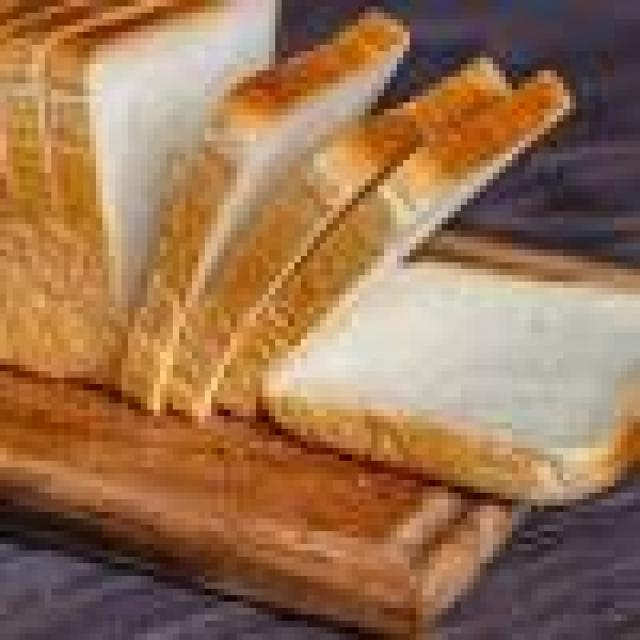Bread: (264, 231, 640, 501), (152, 12, 409, 303), (90, 0, 276, 307)
